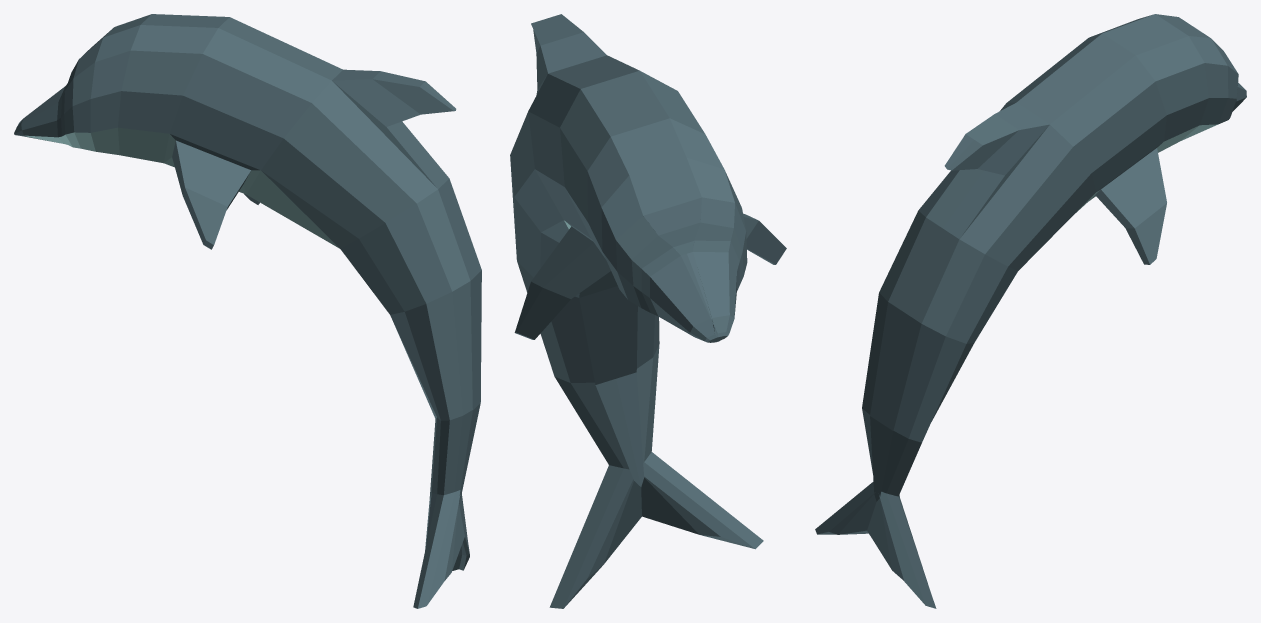
Rendered from Dolphin.fbx.
3 views of the same model, side by side, from view 1: azimuth 30°, elevation 25°; view 2: azimuth 150°, elevation 25°; view 3: azimuth 270°, elevation 25° (orthographic). The views are drawn at different scales.
Visible parts, largest first — view 1: Cube; view 2: Cube; view 3: Cube.
Boxes of the visible parts, left/top/right/bottom form: Cube: left=14, top=14, right=481, bottom=608; Cube: left=510, top=14, right=786, bottom=608; Cube: left=815, top=14, right=1246, bottom=608.
Size of the model in its own units: 305 by 482 by 376.
